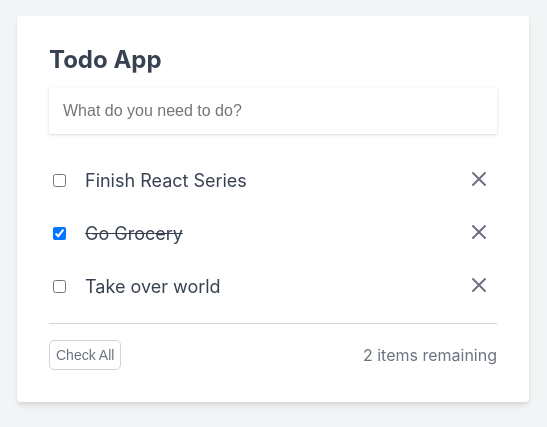
Test: can put a todo into edit mode
This screenshot has width=547, height=427.
Double-click the text "Finish React Series" at (166, 180), box [85,172,247,190]
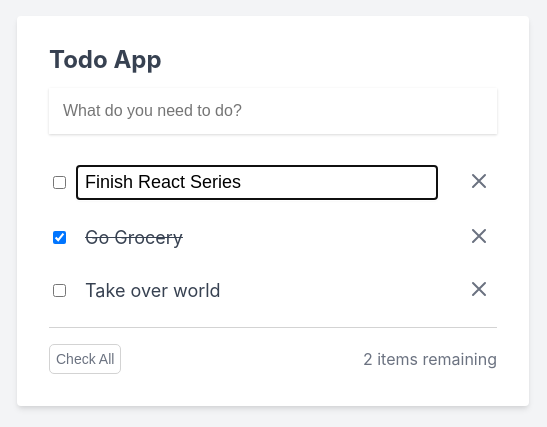
Result: the field showing "Finish React Series" is shown at [77,166,437,199]
